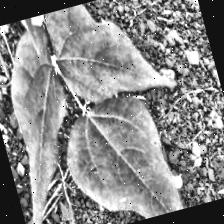ALS: (56, 90, 192, 224), (210, 155, 224, 199)
